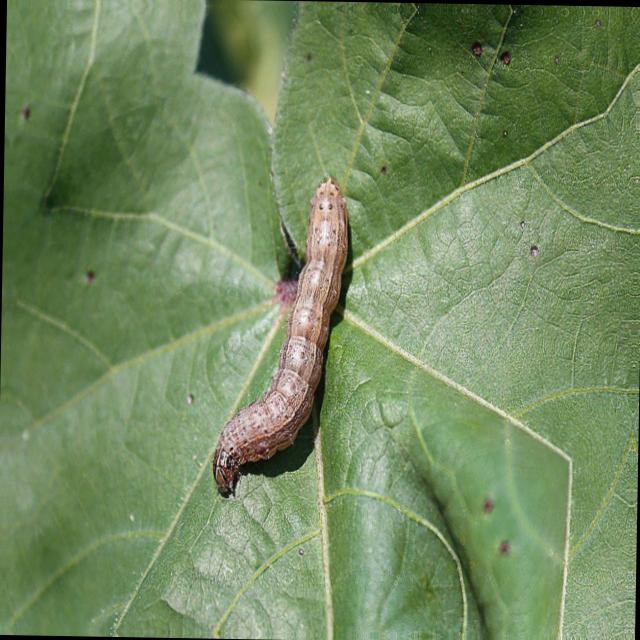Armyworm: (205, 153, 367, 522)
